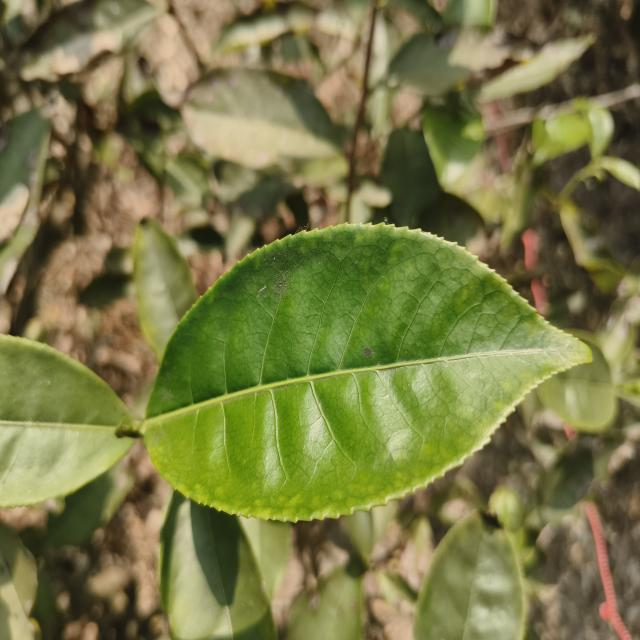Leaf: (141, 224, 591, 520), (0, 335, 134, 507), (160, 490, 277, 640), (182, 67, 344, 169), (413, 510, 525, 640), (20, 0, 157, 81), (386, 27, 526, 96), (0, 109, 51, 293), (133, 219, 197, 360), (536, 336, 616, 432), (48, 463, 133, 547), (0, 266, 21, 575), (379, 127, 441, 228), (286, 566, 364, 640), (423, 105, 483, 189), (0, 523, 37, 640), (586, 101, 614, 158)
